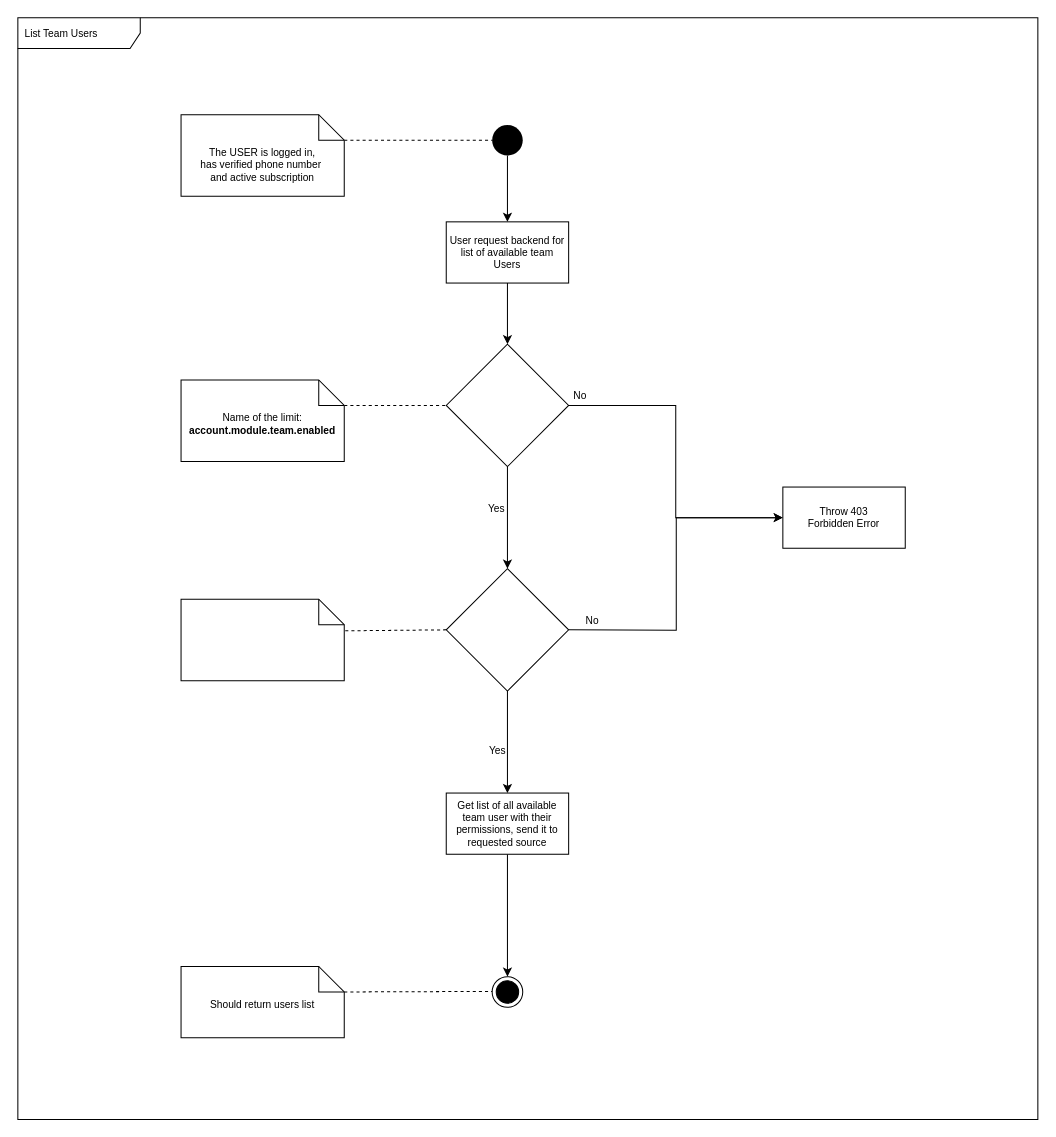
This 1056x1137 diagram has some shape labels left out. Each missing label, with the box of its shape:
Has access to read Users?: (445, 568, 569, 691)
Team module is enabled?: (445, 343, 569, 467)
The User should be an account owner or should has users:read permissions: (180, 598, 344, 681)
